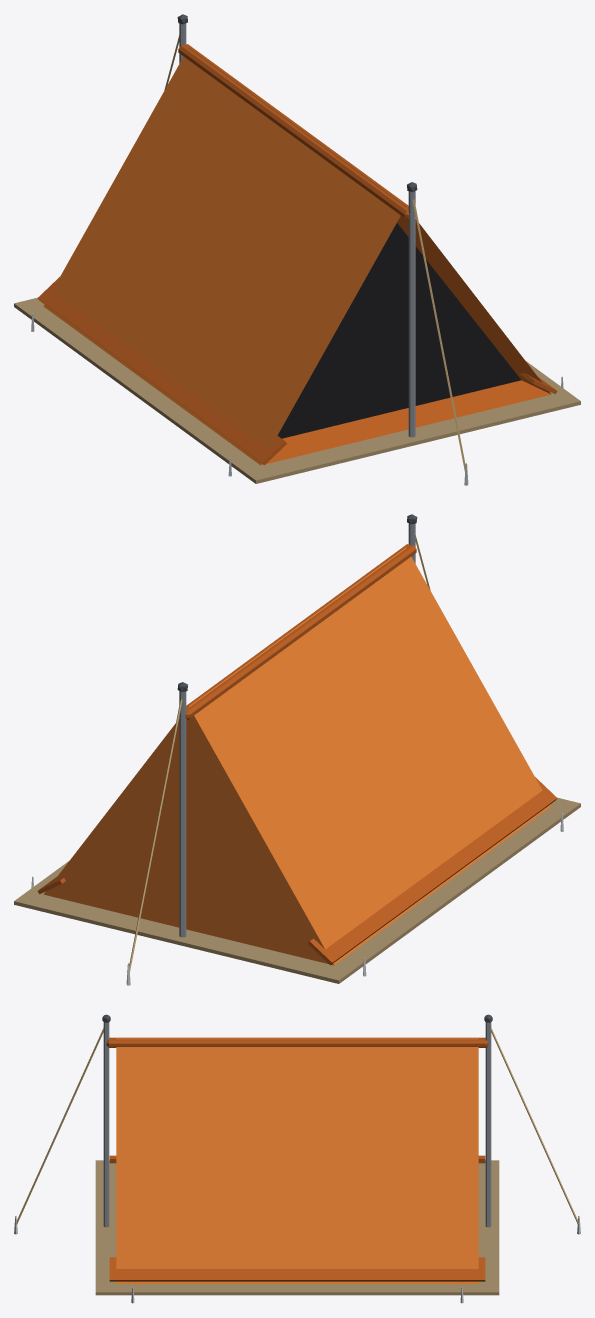
The model's file is SM_Tent_Orange.glb.
3 views of the same model, one above another, from view 1: azimuth 30°, elevation 25°; view 2: azimuth 150°, elevation 25°; view 3: azimuth 270°, elevation 25° (orthographic). The views are drawn at different scales.
Visible parts, largest first — view 1: SM_Tent_Orange; view 2: SM_Tent_Orange; view 3: SM_Tent_Orange.
Part boxes in pixels (x1,y1,x2,y2): SM_Tent_Orange: (14,14,580,485); SM_Tent_Orange: (14,514,580,985); SM_Tent_Orange: (14,1014,580,1303).
Bounding box in the file's own units: 1.96 × 1.48 × 3.44.
1 material, 1 textured.
